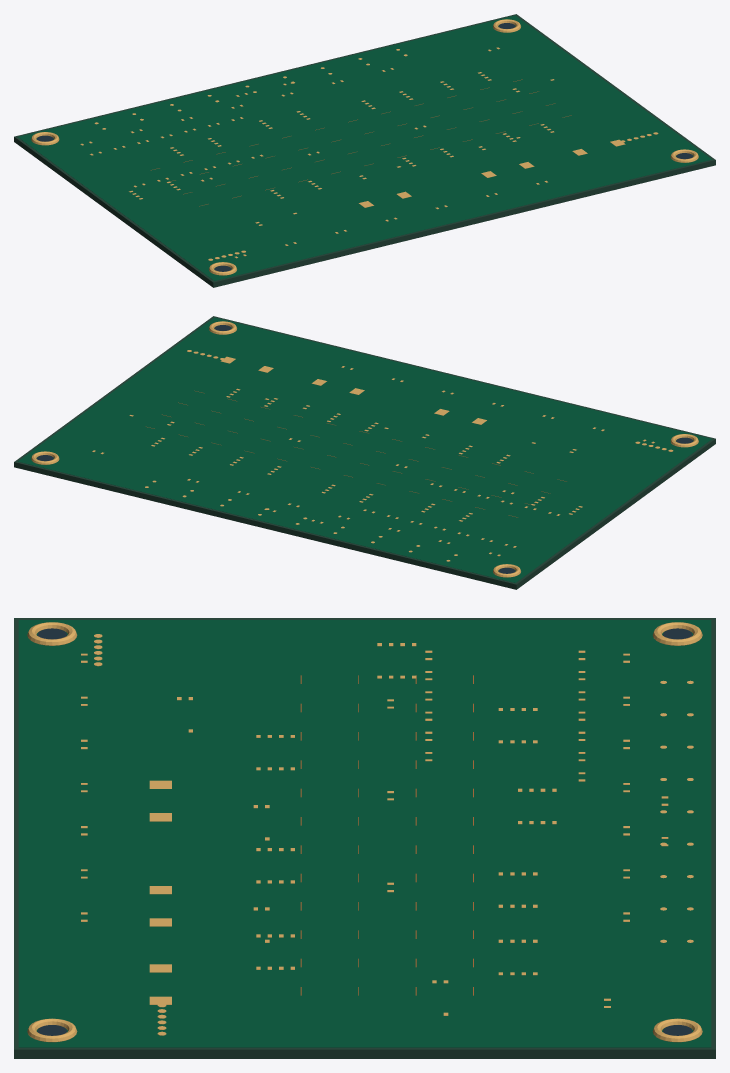
Rendered from 00_L97_VGR5_Empty_PCB_160x110mm.fbx.
3 views of the same model, one above another, from view 1: azimuth 30°, elevation 25°; view 2: azimuth 150°, elevation 25°; view 3: azimuth 270°, elevation 25° (orthographic). The views are drawn at different scales.
Parts seen in each view (by area): view 1: top_soldermask, FR4_core; view 2: top_soldermask, FR4_core; view 3: top_soldermask, FR4_core, plated_mounting_ring (×4).
Boxes of the visible parts, x1=… form: top_soldermask: x1=18, y1=15, x2=711, y2=280; FR4_core: x1=14, y1=14, x2=715, y2=287; top_soldermask: x1=18, y1=317, x2=711, y2=582; FR4_core: x1=14, y1=316, x2=715, y2=589; top_soldermask: x1=18, y1=620, x2=711, y2=1047; FR4_core: x1=14, y1=618, x2=715, y2=1058; plated_mounting_ring (×4): x1=27, y1=622, x2=702, y2=1042.
Bounding box in the file's own units: 0.16 × 0.00245 × 0.11.
